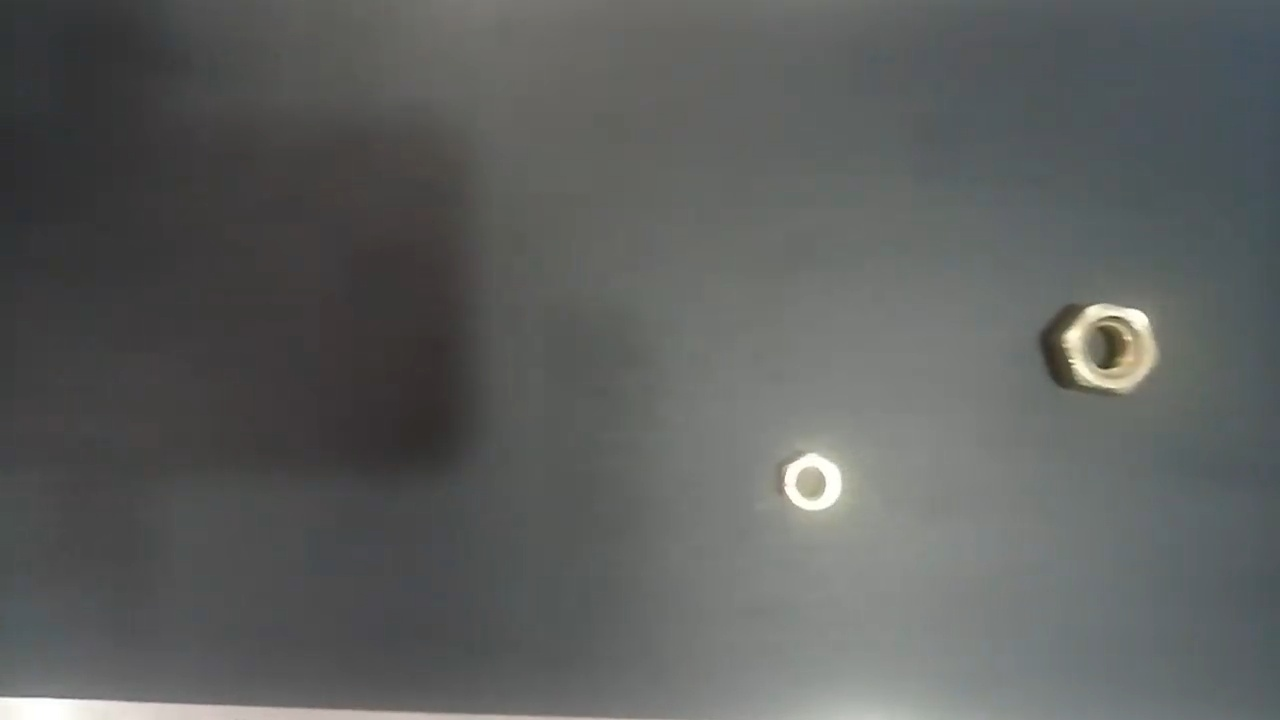Bolt: (1058, 303, 1166, 396), (784, 450, 842, 512)
